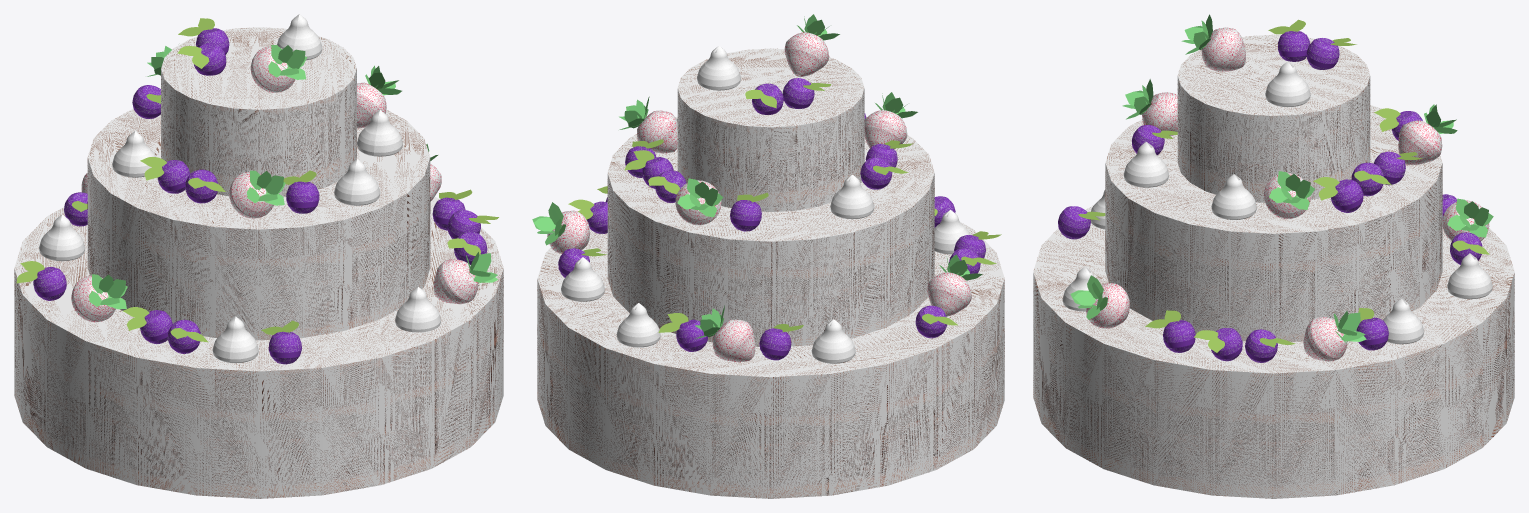
Rendered from cake.gltf.
3 views of the same model, side by side, from view 1: azimuth 30°, elevation 25°; view 2: azimuth 150°, elevation 25°; view 3: azimuth 270°, elevation 25° (orthographic). The views are drawn at different scales.
Parts seen in each view (by area): view 1: group_0.006, group_0.004, group_0.001, group_0.005, group_0.002, group_0.003, group_41, group_18, group_36, group_38, group_35, group_22 (+17 smaller); view 2: group_0.006, group_0.004, group_0.001, group_0.005, group_0.002, group_0.003, group_23, group_5, group_30, group_20, group_37, group_15 (+14 smaller); view 3: group_0.006, group_0.004, group_0.001, group_0.005, group_0.002, group_0.003, group_23, group_43, group_25, group_15, group_38, group_16 (+17 smaller).
Part boxes in pixels (left/top/right/bottom): group_0.006: left=14, top=269, right=503, bottom=498; group_0.004: left=87, top=158, right=430, bottom=340; group_0.001: left=14, top=197, right=503, bottom=371; group_0.005: left=161, top=69, right=356, bottom=196; group_0.002: left=87, top=108, right=430, bottom=229; group_0.003: left=161, top=27, right=356, bottom=109; group_41: left=433, top=259, right=478, bottom=304; group_18: left=212, top=316, right=258, bottom=363; group_36: left=357, top=110, right=402, bottom=156; group_38: left=334, top=159, right=380, bottom=205; group_35: left=39, top=214, right=85, bottom=261; group_22: left=395, top=287, right=440, bottom=332; group_0.006: left=537, top=279, right=1004, bottom=498; group_0.004: left=607, top=173, right=934, bottom=346; group_0.001: left=537, top=222, right=1004, bottom=377; group_0.005: left=677, top=88, right=864, bottom=211; group_0.002: left=607, top=116, right=934, bottom=241; group_0.003: left=677, top=48, right=864, bottom=127; group_23: left=784, top=32, right=829, bottom=77; group_5: left=712, top=319, right=755, bottom=362; group_30: left=927, top=272, right=971, bottom=316; group_20: left=637, top=110, right=677, bottom=153; group_37: left=561, top=257, right=604, bottom=301; group_15: left=616, top=303, right=660, bottom=347; group_0.006: left=1033, top=273, right=1514, bottom=498; group_0.004: left=1105, top=163, right=1442, bottom=341; group_0.001: left=1033, top=205, right=1514, bottom=373; group_0.005: left=1177, top=76, right=1370, bottom=202; group_0.002: left=1105, top=105, right=1442, bottom=233; group_0.003: left=1177, top=34, right=1370, bottom=115; group_23: left=1201, top=27, right=1245, bottom=71; group_43: left=1303, top=317, right=1347, bottom=361; group_25: left=1398, top=120, right=1442, bottom=165; group_15: left=1447, top=253, right=1492, bottom=299; group_38: left=1123, top=141, right=1168, bottom=187; group_16: left=1265, top=61, right=1310, bottom=106.
Size of the model in its own units: 0.4229 by 0.3529 by 0.4125.
10 materials, 1 textured.
